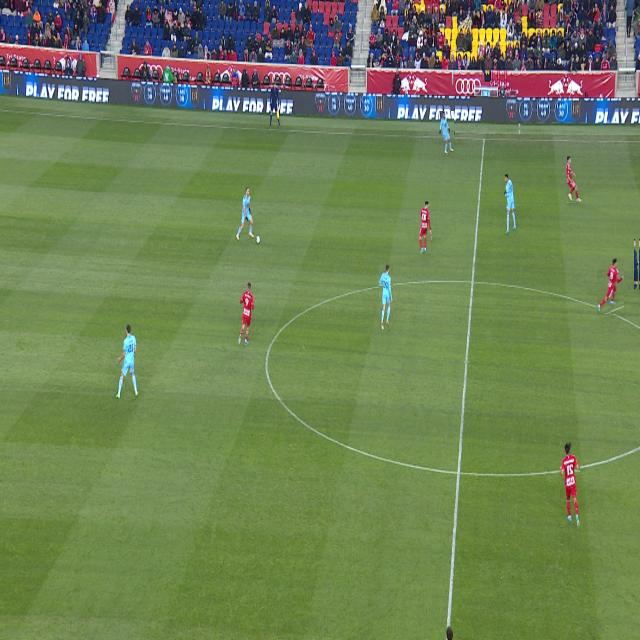football: (256, 235, 260, 244)
player: (560, 442, 580, 527), (116, 324, 138, 399), (597, 259, 624, 314), (238, 282, 254, 345), (236, 187, 254, 240), (379, 264, 393, 330), (504, 174, 516, 234), (566, 157, 582, 202), (440, 112, 454, 154), (420, 201, 431, 254)
referee: (634, 239, 640, 289)
